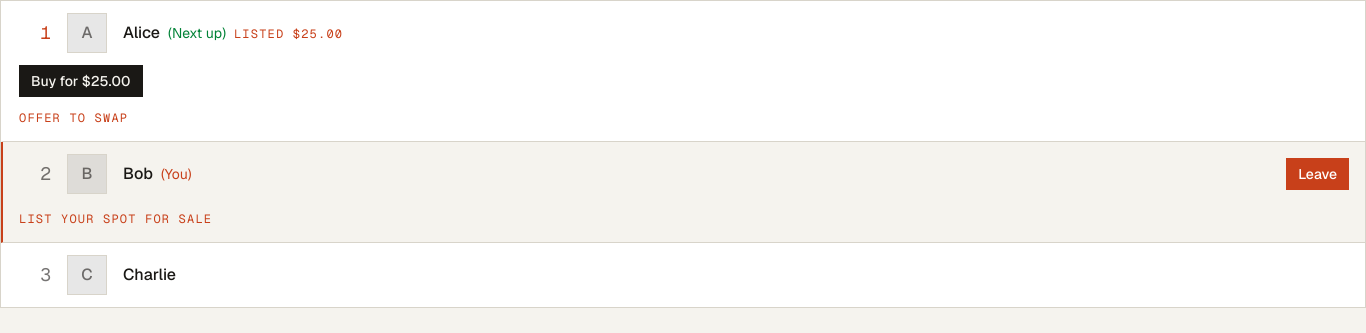
Test: QueueDisplay › shows offer input when Offer to Swap is clicked
Click the button "Offer to Swap" at (74, 118), box [19, 110, 128, 126]
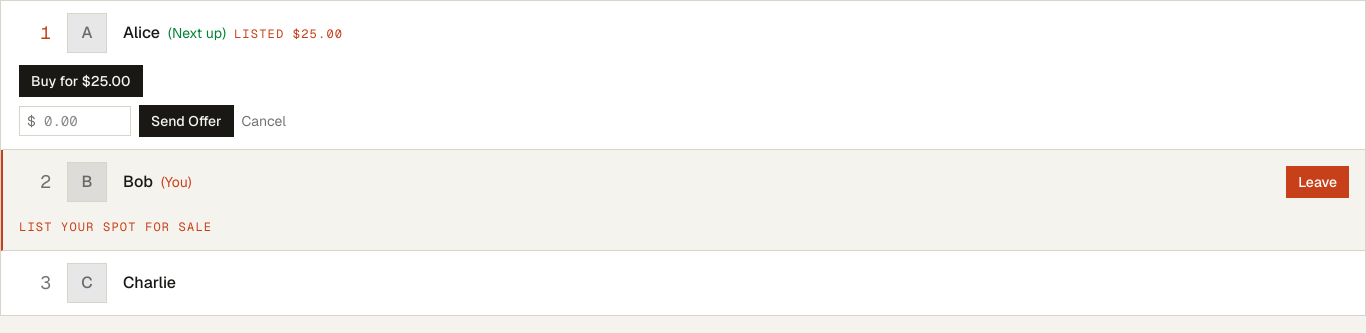
Check: the number field with placeholder "0.00" is shown, box [19, 106, 131, 136]
Check: the button "Send Offer" is shown, box [139, 105, 234, 137]
